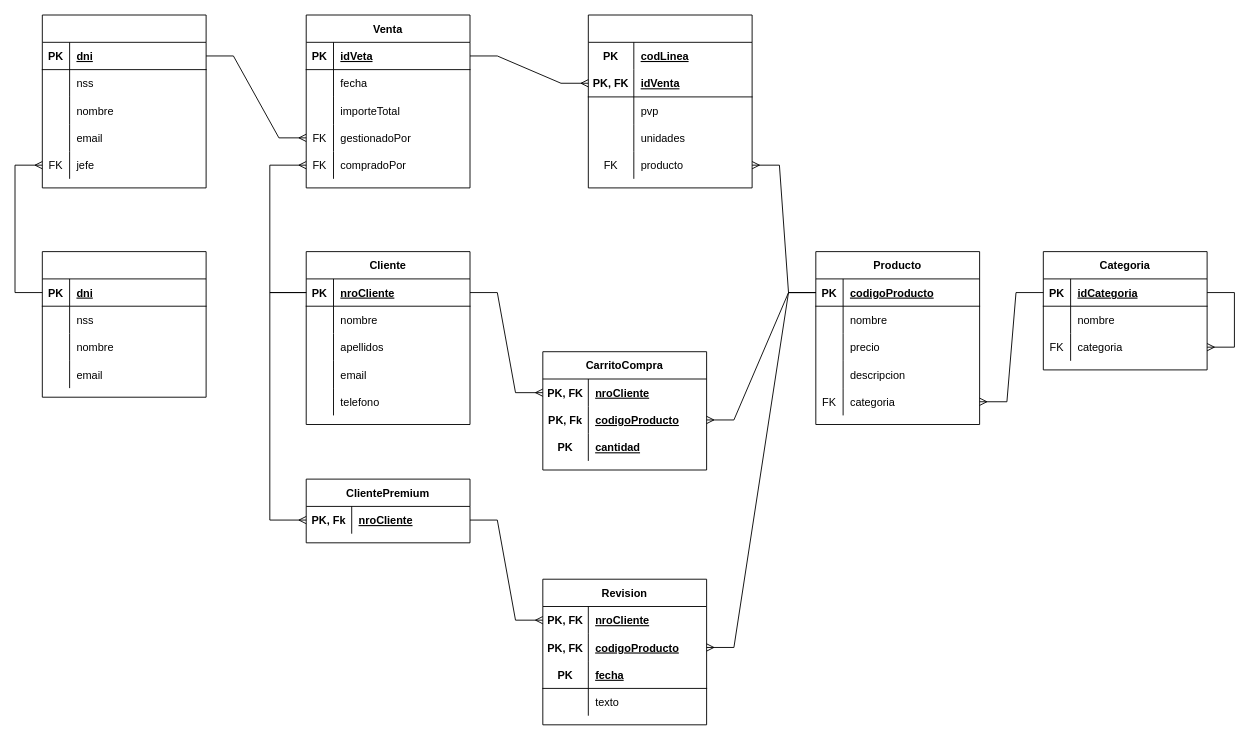
This 1249x740 diagram has some shape labels left out. The box of each missing label's shape, as (x1, y1, x2, y2) in pixels:
Empleado: (41, 14, 206, 188)
Gerente: (41, 251, 206, 397)
LienaVenta: (587, 14, 752, 188)
